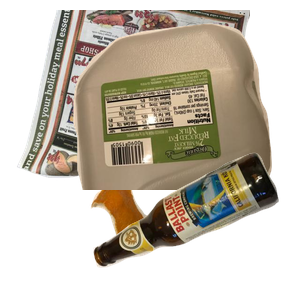glass: (91, 150, 300, 300)
paper: (14, 10, 254, 190)
plastic: (71, 21, 300, 201)
trash: (88, 177, 251, 300)
